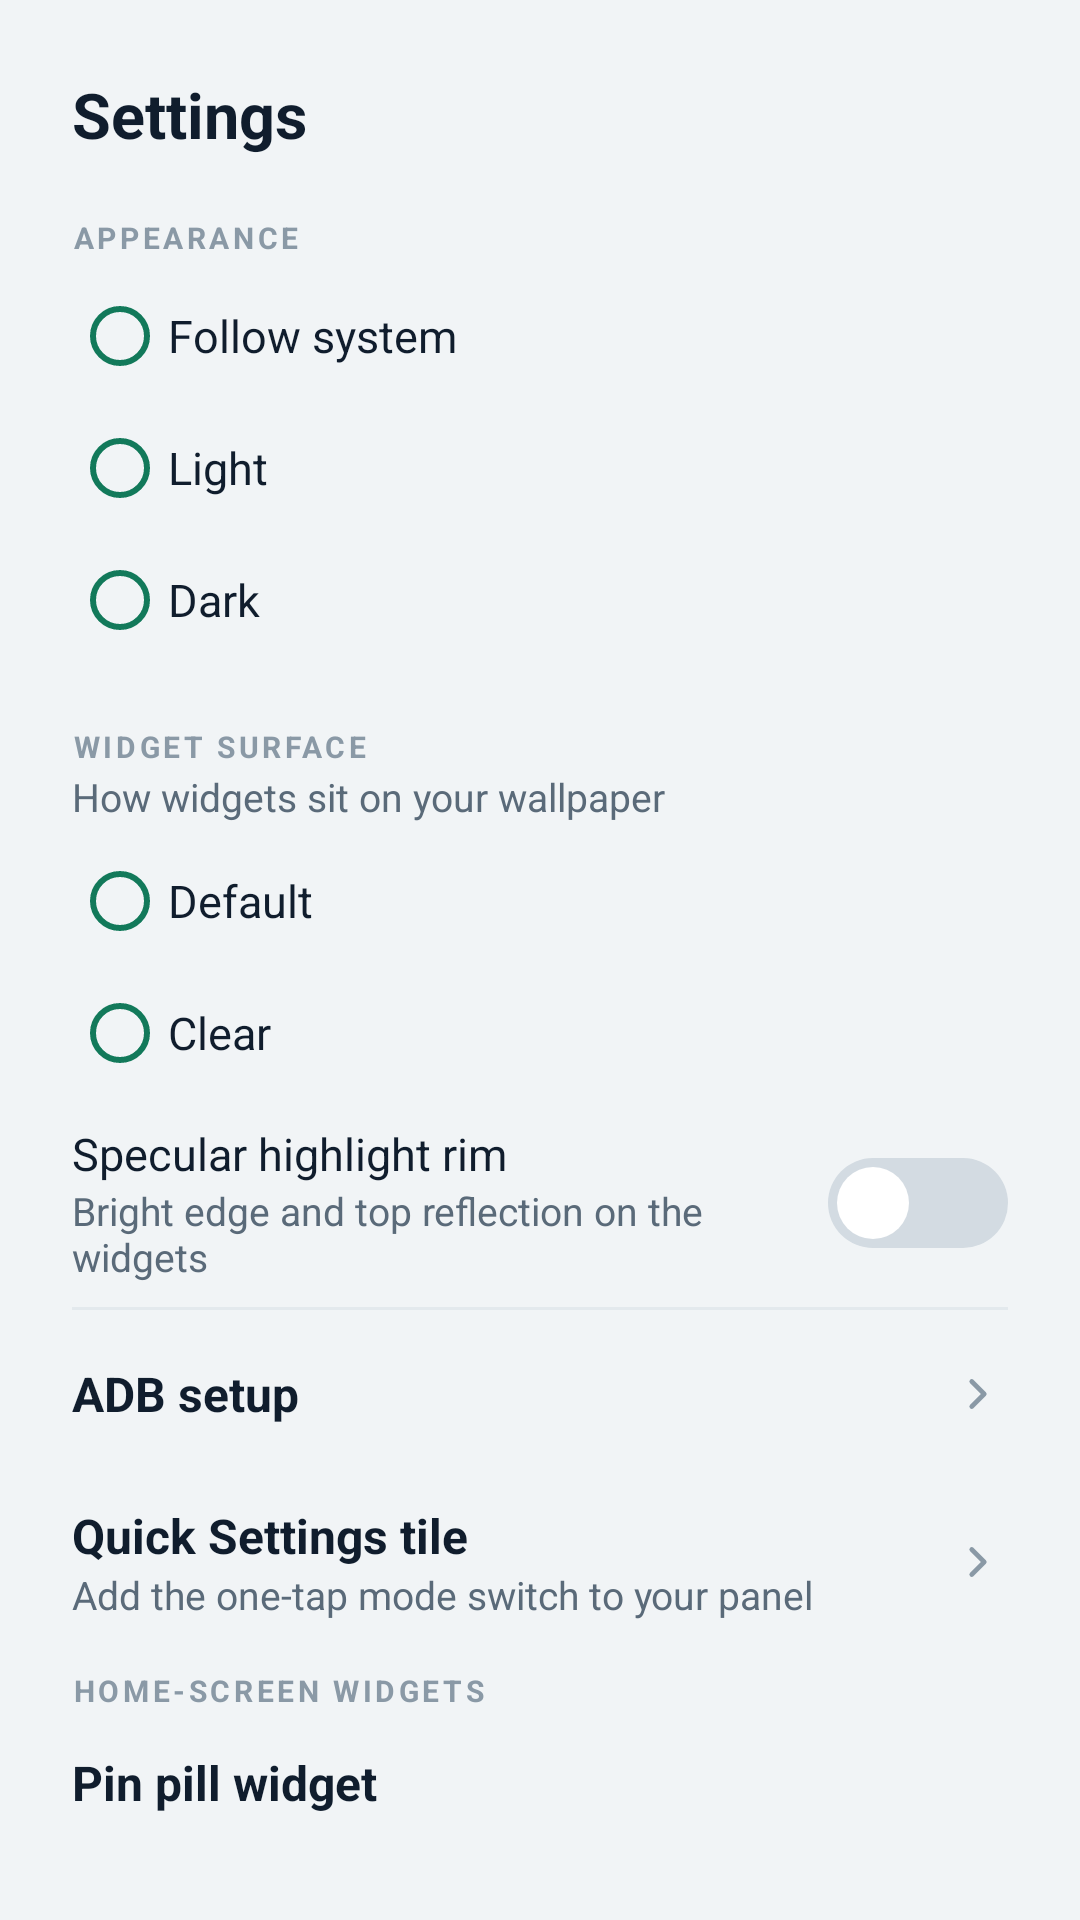

Point at icon controls on the screen. Image size 1080×1920, points as (x=x, y=y).
chevron: (x=978, y=1394), (x=978, y=1562)
